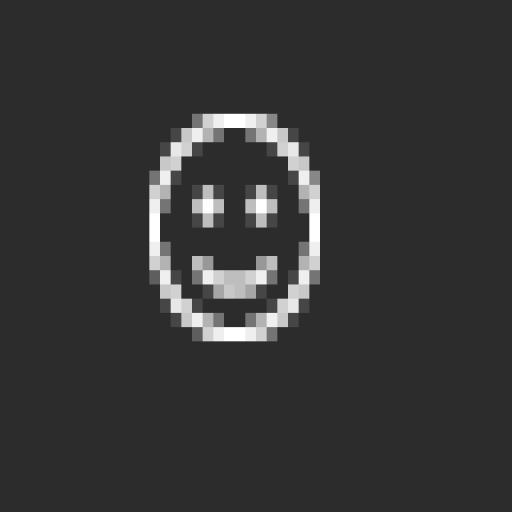emoji-button: (117, 100, 373, 356)
